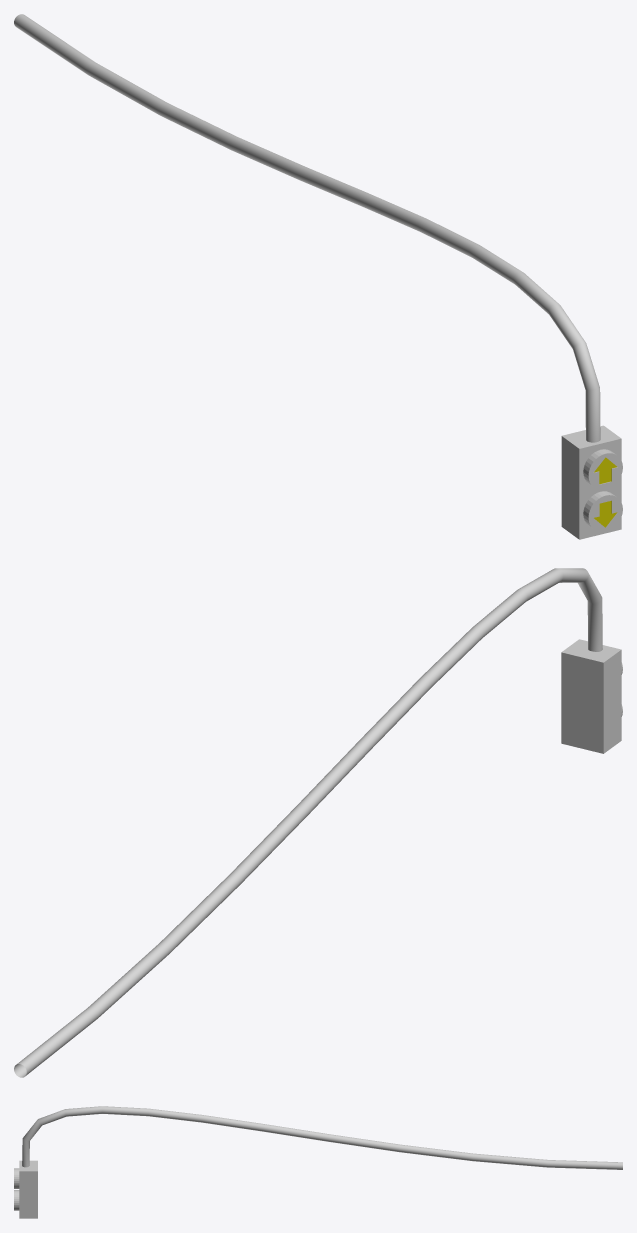
File: ExportedBlenderFBXFile.fbx
The picture shows the model from 3 angles, top to bottom: view 1: azimuth 30°, elevation 25°; view 2: azimuth 150°, elevation 25°; view 3: azimuth 270°, elevation 25°; orthographic projection. The views are drawn at different scales.
Parts seen in each view (by area): view 1: BezierCurve, Box, DOWN_Button, UP_Button; view 2: BezierCurve, Box; view 3: BezierCurve, Box.
Part boxes in pixels (left/top/right/bottom): BezierCurve: left=14, top=14, right=600, bottom=442; Box: left=561, top=425, right=621, bottom=539; DOWN_Button: left=583, top=491, right=622, bottom=531; UP_Button: left=583, top=449, right=622, bottom=489; BezierCurve: left=14, top=568, right=602, bottom=1077; Box: left=561, top=639, right=621, bottom=753; BezierCurve: left=22, top=1106, right=622, bottom=1169; Box: left=19, top=1160, right=37, bottom=1218.
Size of the model in its own units: 0.0851 by 0.394 by 2.04.
